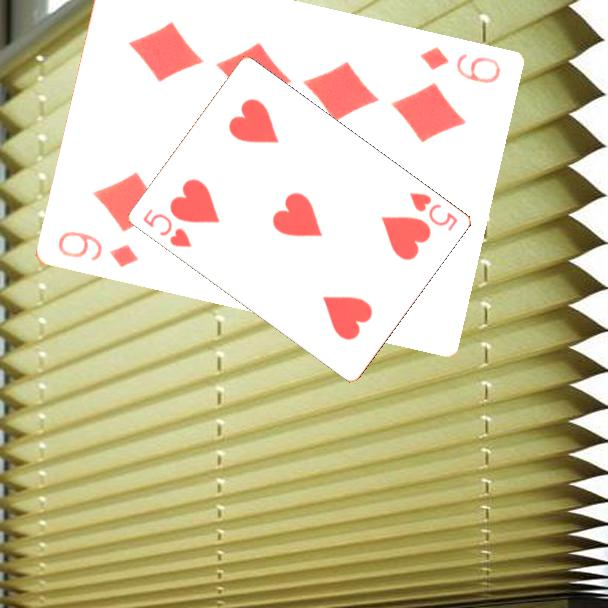d09: (416, 43, 503, 87), (53, 228, 141, 271)
h05: (139, 205, 194, 250), (405, 189, 460, 234)
